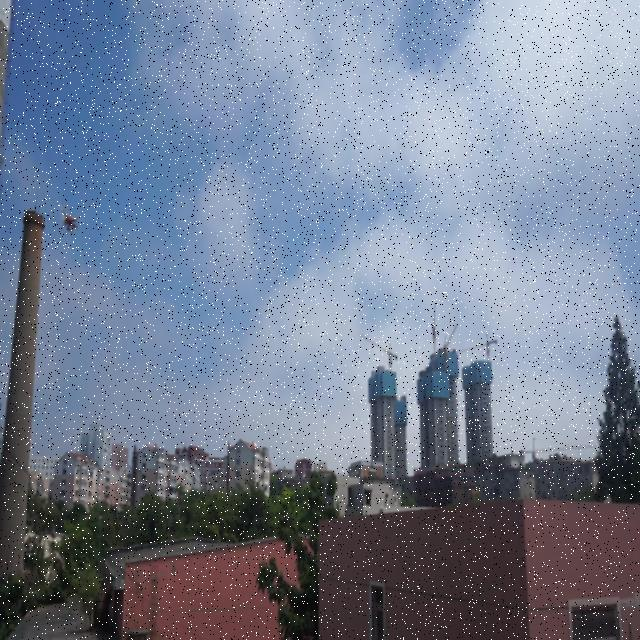UAV: (58, 202, 84, 236)
